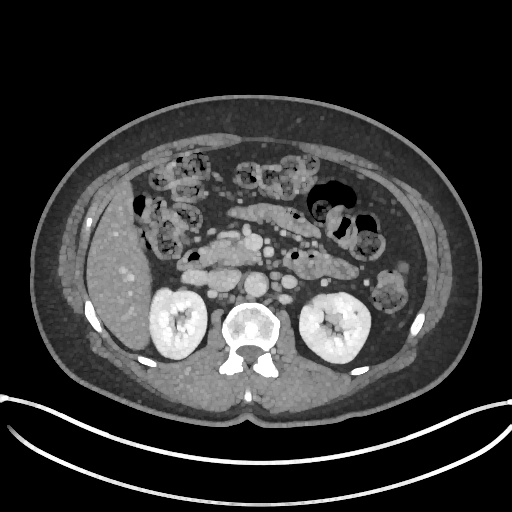Lesion: (349, 306, 360, 317)
